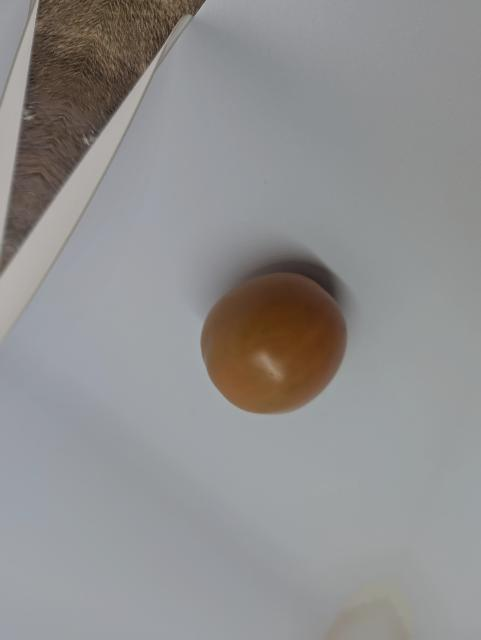turning: (190, 260, 362, 421)
